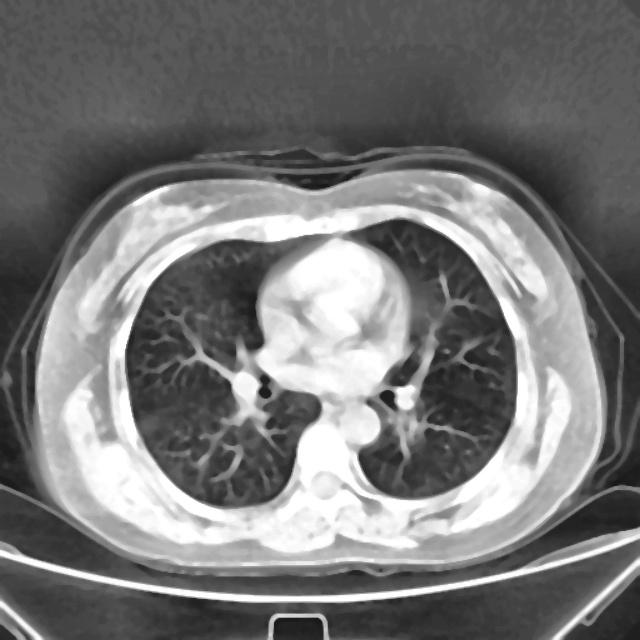covid: (15, 146, 612, 578)
